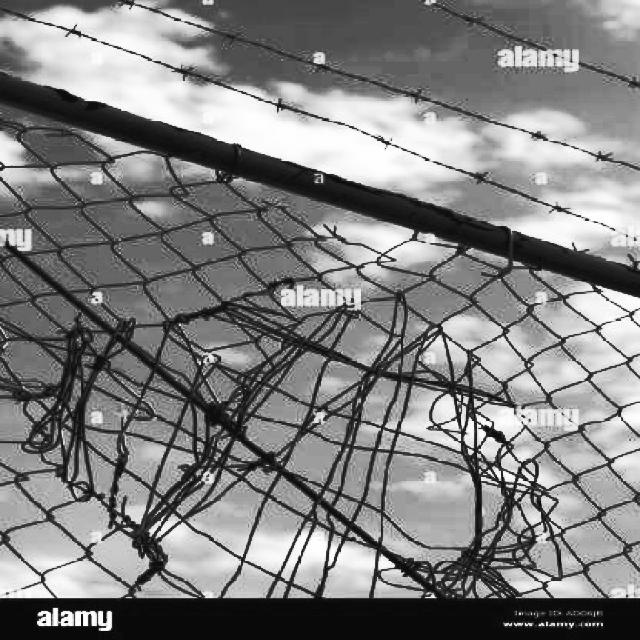anomaly-fence: (15, 104, 640, 640)
